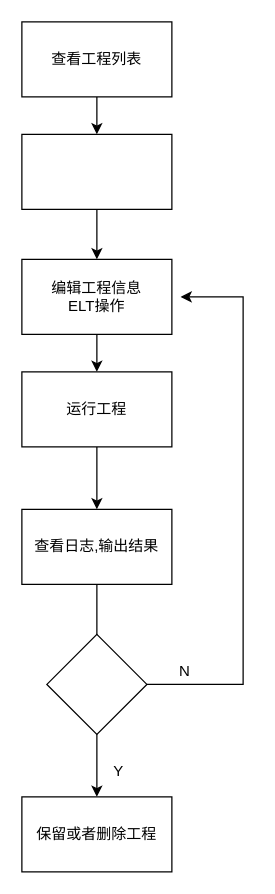
Some shapes in this 275 by 894 pixel diagram are drawn without their labels. Each missing label, with the centre of its shape:
"创建工程" belongs at point (96, 171).
"是否符合预期" belongs at point (96, 683).
